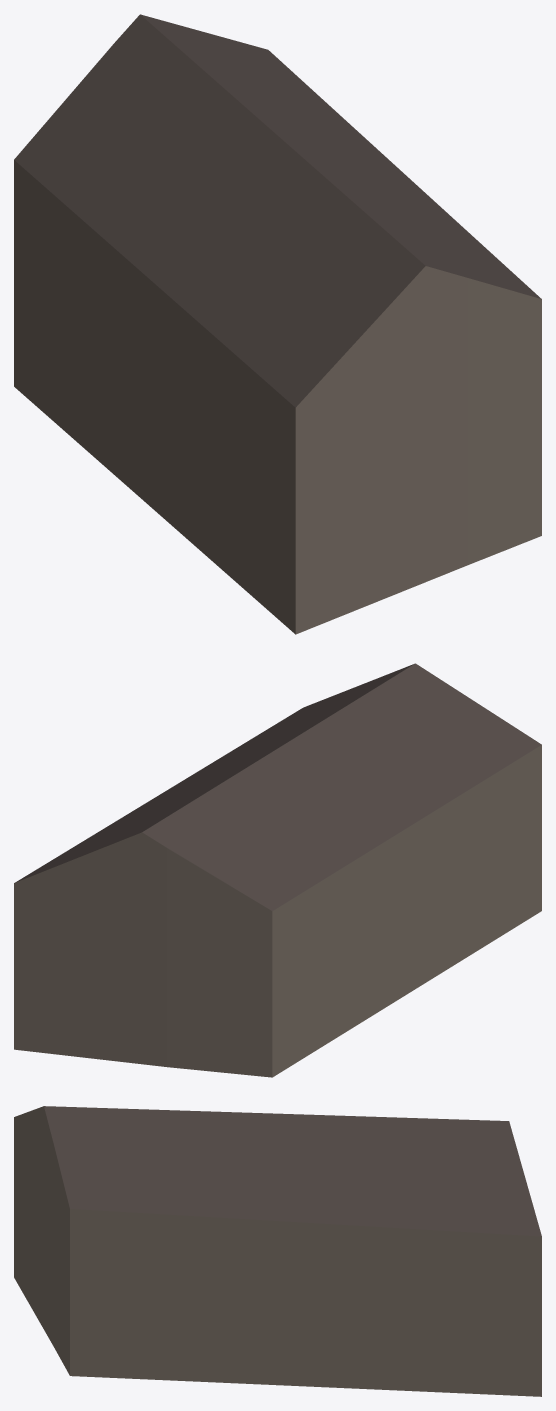
3 renders of one model, top to bottom at view 1: azimuth 30°, elevation 25°; view 2: azimuth 150°, elevation 25°; view 3: azimuth 270°, elevation 25°, orthographic. The views are drawn at different scales.
Parts seen in each view (by area): view 1: HP-w1200813398; view 2: HP-w1200813398; view 3: HP-w1200813398.
Part boxes in pixels (box(x1,y1,x2,y2)): HP-w1200813398: box(14, 14, 541, 634); HP-w1200813398: box(14, 663, 541, 1077); HP-w1200813398: box(14, 1106, 541, 1396).
Bounding box in the file's own units: 14.38 × 12.55 × 26.86.
